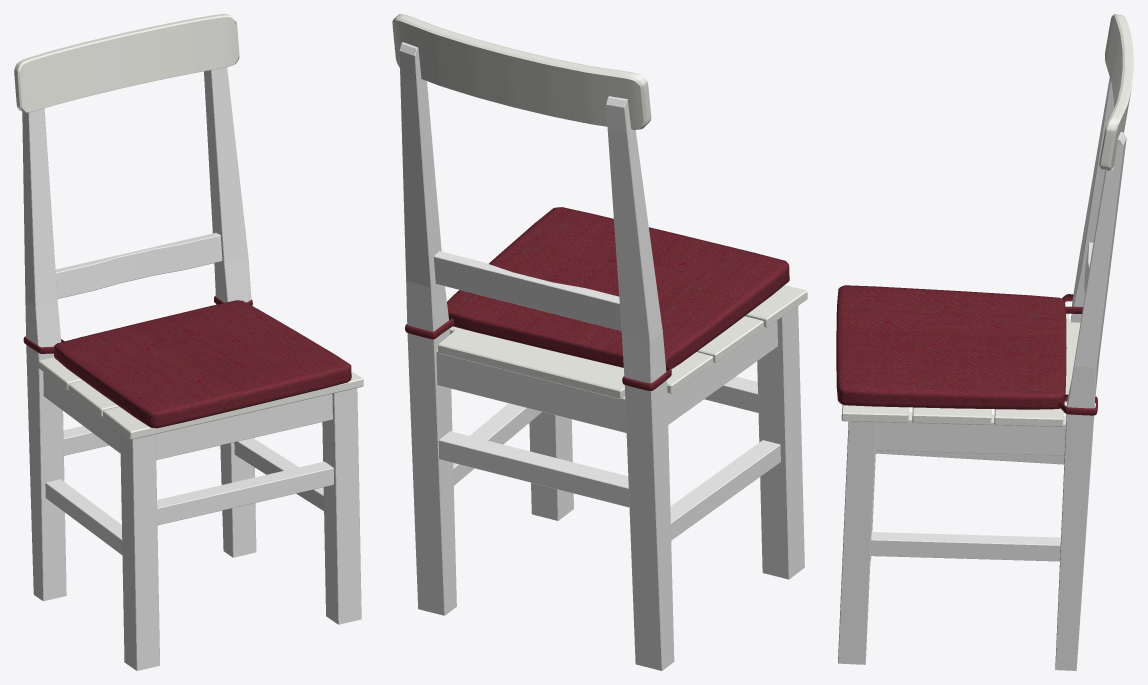
3 renders of one model, left to right at view 1: azimuth 30°, elevation 25°; view 2: azimuth 150°, elevation 25°; view 3: azimuth 270°, elevation 25°, orthographic. The views are drawn at different scales.
Visible parts, largest first — view 1: Chair-Back-Uprights-legs_Cube.085, Chair-Cushion1_Plane.054, Chair-Back-Top_Plane.031, Chair-leg-front-R_Cube.083, Chair-leg-front-L_Cube.083, Cube.052_Cube.031, Chair-Cross-top-section4_Cube.030, Chair-Cross-section3_Cube.025, Chair-seat_Plane.029, Chair-Cross-section2_Cube.021, Chair-Cross-top-section2_Cube.020, Chair-Cross-section1_Cube.000 (+1 smaller); view 2: Chair-Back-Uprights-legs_Cube.085, Chair-Cushion1_Plane.054, Chair-Back-Top_Plane.031, Chair-leg-front-R_Cube.083, Chair-seat_Plane.029, Chair-Cross-top-section3_Cube.027, Cube.052_Cube.031, Chair-Cross-section4_Cube.026, Chair-Cross-section2_Cube.021, Chair-Cross-top-section2_Cube.020, Chair-leg-front-L_Cube.083, Chair-Cross-section1_Cube.000 (+1 smaller); view 3: Chair-Cushion1_Plane.054, Chair-Back-Uprights-legs_Cube.085, Chair-leg-front-L_Cube.083, Chair-Cross-top-section1_Cube.024, Chair-Cross-section1_Cube.000, Chair-seat_Plane.029, Chair-Back-Top_Plane.031, Chair-Cross-section2_Cube.021.
Boxes of the visible parts, x1=… form: Chair-Back-Uprights-legs_Cube.085: x1=22, y1=67, x2=256, y2=601; Chair-Cushion1_Plane.054: x1=54, y1=300, x2=351, y2=428; Chair-Back-Top_Plane.031: x1=14, y1=14, x2=239, y2=112; Chair-leg-front-R_Cube.083: x1=120, y1=432, x2=159, y2=670; Chair-leg-front-L_Cube.083: x1=322, y1=388, x2=361, y2=624; Cube.052_Cube.031: x1=55, y1=233, x2=222, y2=298; Chair-Cross-top-section4_Cube.030: x1=156, y1=394, x2=332, y2=459; Chair-Cross-section3_Cube.025: x1=157, y1=461, x2=333, y2=525; Chair-seat_Plane.029: x1=38, y1=357, x2=363, y2=439; Chair-Cross-section2_Cube.021: x1=45, y1=479, x2=122, y2=554; Chair-Cross-top-section2_Cube.020: x1=43, y1=372, x2=120, y2=453; Chair-Cross-section1_Cube.000: x1=234, y1=438, x2=323, y2=510; Chair-Back-Uprights-legs_Cube.085: x1=399, y1=42, x2=674, y2=670; Chair-Cushion1_Plane.054: x1=447, y1=207, x2=789, y2=369; Chair-Back-Top_Plane.031: x1=392, y1=14, x2=651, y2=129; Chair-leg-front-R_Cube.083: x1=757, y1=306, x2=804, y2=579; Chair-seat_Plane.029: x1=438, y1=285, x2=807, y2=399; Chair-Cross-top-section3_Cube.027: x1=436, y1=350, x2=626, y2=432; Cube.052_Cube.031: x1=433, y1=251, x2=621, y2=330; Chair-Cross-section4_Cube.026: x1=438, y1=431, x2=629, y2=507; Chair-Cross-section2_Cube.021: x1=670, y1=440, x2=780, y2=540; Chair-Cross-top-section2_Cube.020: x1=667, y1=320, x2=777, y2=424; Chair-leg-front-L_Cube.083: x1=529, y1=412, x2=573, y2=520; Chair-Cross-section1_Cube.000: x1=453, y1=403, x2=541, y2=485; Chair-Cushion1_Plane.054: x1=836, y1=285, x2=1066, y2=409; Chair-Back-Uprights-legs_Cube.085: x1=1055, y1=77, x2=1126, y2=670; Chair-leg-front-L_Cube.083: x1=838, y1=421, x2=876, y2=664; Chair-Cross-top-section1_Cube.024: x1=875, y1=412, x2=1066, y2=455; Chair-Cross-section1_Cube.000: x1=870, y1=532, x2=1060, y2=561; Chair-seat_Plane.029: x1=841, y1=313, x2=1095, y2=426; Chair-Back-Top_Plane.031: x1=1099, y1=14, x2=1133, y2=170; Chair-Cross-section2_Cube.021: x1=876, y1=450, x2=1064, y2=464.
Size of the model in its own units: 0.4644 by 1 by 0.4895.
Materials: 4 (2 with a texture image).
